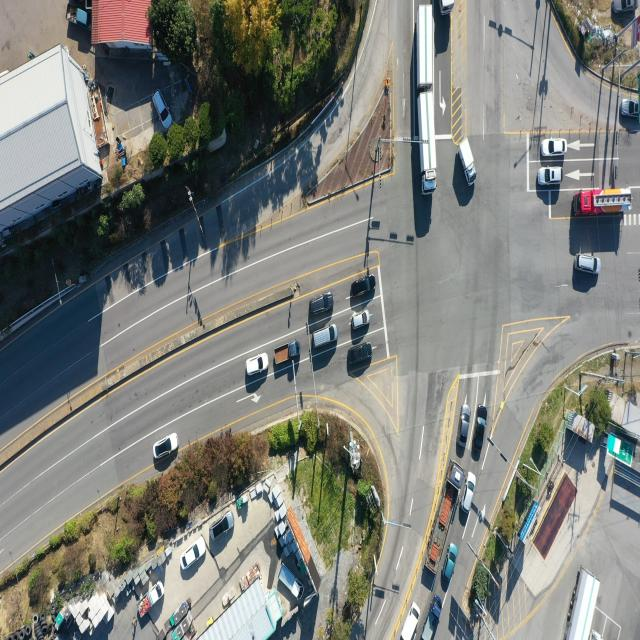car: (180, 536, 208, 577), (399, 603, 423, 640), (152, 90, 172, 130), (155, 434, 180, 462), (472, 410, 485, 461), (212, 511, 234, 540), (312, 324, 338, 348), (347, 344, 373, 367), (464, 473, 478, 514), (310, 294, 334, 317), (458, 404, 470, 450), (350, 276, 375, 298), (246, 353, 269, 376), (445, 543, 458, 580), (576, 254, 600, 274), (621, 97, 640, 122), (540, 138, 566, 156), (538, 168, 562, 186), (613, 0, 637, 14), (351, 312, 370, 329)
large_truck: (417, 2, 437, 192)
medium_truck: (422, 459, 465, 572), (564, 570, 600, 640), (576, 192, 634, 216), (439, 0, 455, 16)
small_truck: (139, 579, 165, 618), (279, 564, 304, 601), (422, 596, 443, 640), (458, 138, 476, 186), (274, 341, 300, 366), (67, 4, 91, 31)
